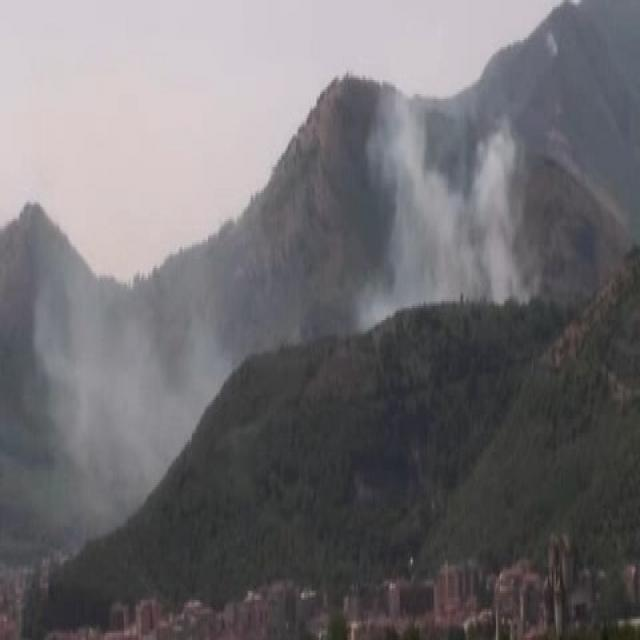smoke: (366, 99, 516, 319), (44, 274, 199, 482)
